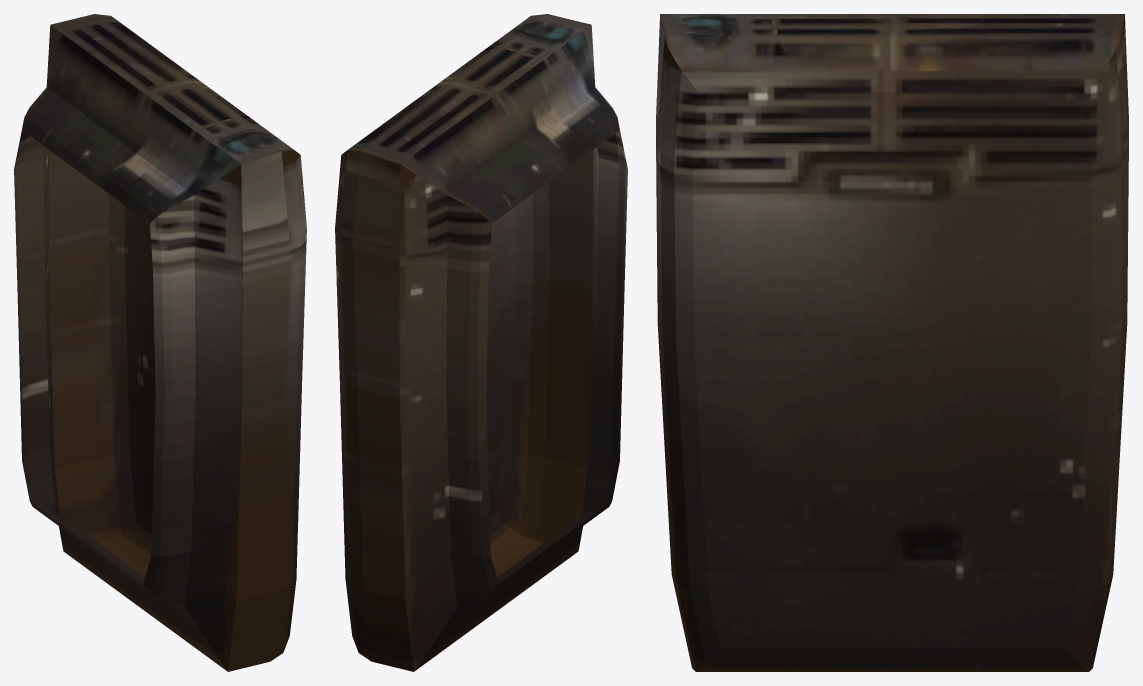
File: Gas heater_Estufa.fbx
3 views of the same model, side by side, from view 1: azimuth 30°, elevation 25°; view 2: azimuth 150°, elevation 25°; view 3: azimuth 270°, elevation 25° (orthographic). The views are drawn at different scales.
Parts seen in each view (by area): view 1: Estufa; view 2: Estufa; view 3: Estufa.
Part boxes in pixels (x1=…): Estufa: x1=14, y1=14, x2=306, y2=671; Estufa: x1=335, y1=14, x2=627, y2=671; Estufa: x1=656, y1=14, x2=1128, y2=671.
Size of the model in its own units: 0.1983 by 0.7139 by 0.4847.
